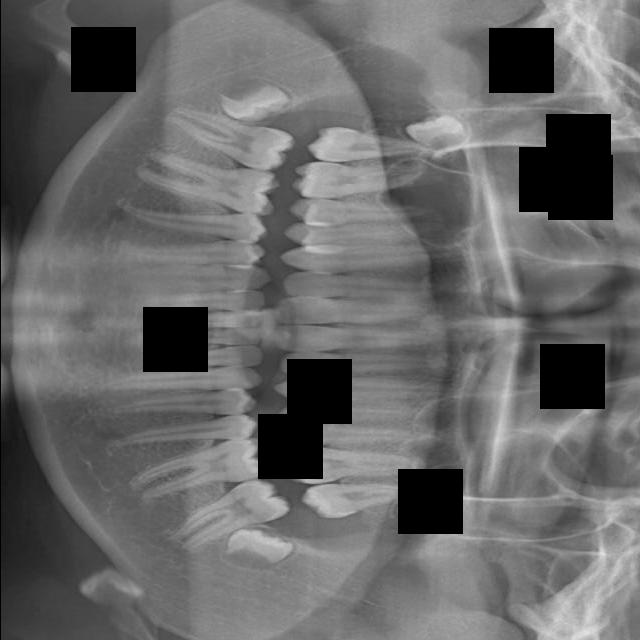3M ESPE Implant: (400, 99, 479, 147)
AGS Medikal Implant: (217, 519, 218, 519)
AMerOss Implant: (118, 432, 272, 506)
Amalgam filling: (302, 122, 460, 175)
Anthogyr Implant: (99, 412, 261, 452)
Bicon Implant: (100, 391, 259, 417)
BioHorizons Implant: (90, 367, 263, 395)
BioLife Implant: (132, 343, 264, 369)
Biomet 3i Implant: (122, 329, 261, 346)
Blue Sky Bio Implant: (143, 309, 263, 333)
Camlog Implant: (124, 287, 266, 318)
Caries: (276, 346, 458, 377)
Composite filling: (100, 259, 270, 291)
Cowellmedi Implant: (111, 239, 265, 264)
Crown: (108, 198, 272, 245)
DENTSPLY Implant: (287, 159, 433, 201)
Dentatus Implant: (193, 180, 194, 181)
Dentis Implant: (149, 101, 298, 177)
Dentium Implant: (208, 64, 294, 132)
Euroteknika Implant: (287, 196, 445, 232)
Filling: (280, 219, 467, 245)
Frontier Implant: (275, 242, 491, 273)
Hiossen Implant: (272, 375, 474, 401)
Implant: (270, 296, 442, 328)
Implant Direct: (280, 271, 461, 303)
Keystone Dental Implant: (272, 326, 451, 353)
MIS Implant: (275, 397, 445, 424)
Mandible: (276, 418, 447, 447)
Maxilla: (279, 446, 426, 487)
Megagen Implant: (299, 481, 440, 519)
Neodent Implant: (392, 489, 465, 534)
Neoss Implant: (217, 525, 294, 576)
